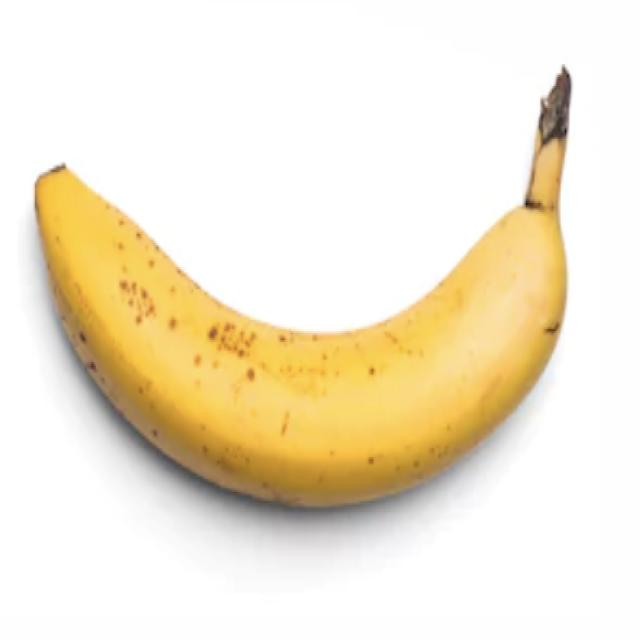fresh-banana: (32, 64, 572, 508)
